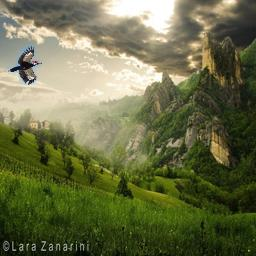Woodpecker: (8, 45, 42, 85)
